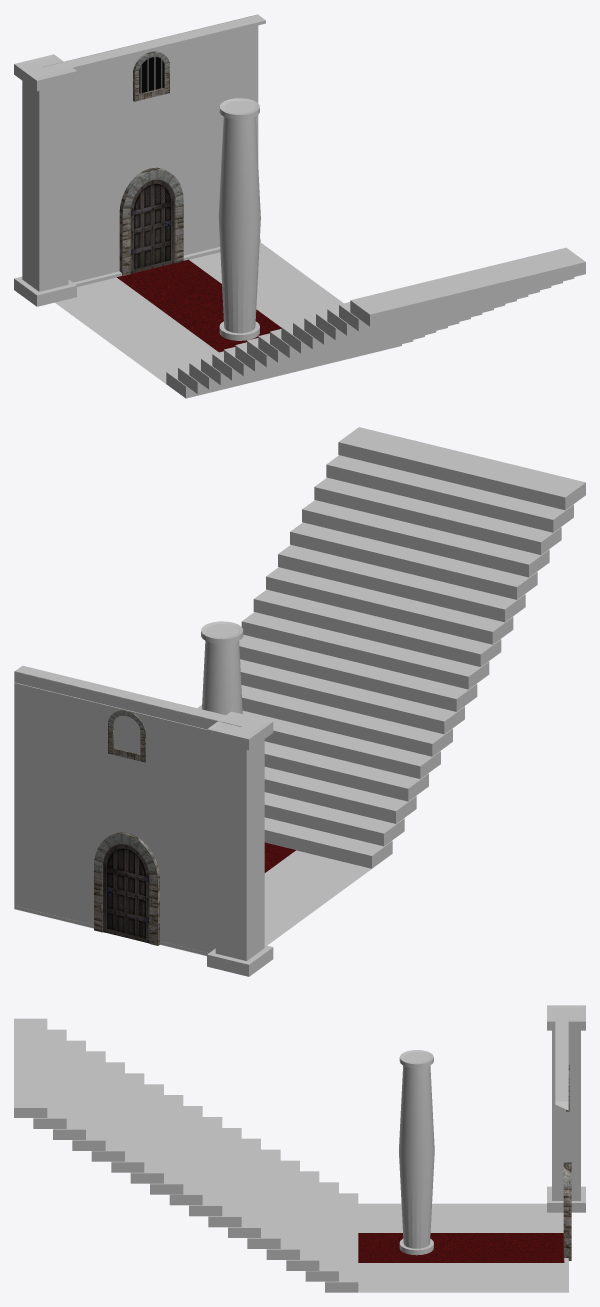
The model's file is Modular_Dungeon.fbx.
3 views of the same model, one above another, from view 1: azimuth 30°, elevation 25°; view 2: azimuth 150°, elevation 25°; view 3: azimuth 270°, elevation 25° (orthographic). The views are drawn at different scales.
Visible parts, largest first — view 1: Wall, Stair, Ground, Pillar_1, Pillar_2, Door_Dungeon, Cloth_Ground1, Window; view 2: Stair, Wall, Pillar_1, Door_Dungeon, Ground, Pillar_2, Window; view 3: Stair, Ground, Pillar_2, Cloth_Ground1, Pillar_1, Wall, Door_Dungeon.
Boxes of the visible parts, x1=… form: Wall: x1=42, y1=14, x2=265, y2=286; Stair: x1=166, y1=247, x2=585, y2=398; Ground: x1=55, y1=242, x2=343, y2=383; Pillar_1: x1=14, y1=54, x2=76, y2=306; Pillar_2: x1=218, y1=98, x2=260, y2=340; Door_Dungeon: x1=119, y1=167, x2=183, y2=276; Cloth_Ground1: x1=117, y1=259, x2=281, y2=352; Window: x1=133, y1=51, x2=169, y2=101; Stair: x1=197, y1=427, x2=585, y2=868; Wall: x1=14, y1=665, x2=249, y2=955; Pillar_1: x1=207, y1=711, x2=273, y2=976; Door_Dungeon: x1=94, y1=832, x2=159, y2=945; Ground: x1=14, y1=850, x2=371, y2=956; Pillar_2: x1=201, y1=621, x2=243, y2=714; Window: x1=108, y1=710, x2=145, y2=762; Stair: x1=14, y1=1018, x2=358, y2=1292; Ground: x1=358, y1=1203, x2=568, y2=1292; Pillar_2: x1=399, y1=1050, x2=434, y2=1255; Cloth_Ground1: x1=358, y1=1233, x2=564, y2=1262; Pillar_1: x1=547, y1=1005, x2=585, y2=1212; Wall: x1=555, y1=1012, x2=568, y2=1289; Door_Dungeon: x1=563, y1=1162, x2=571, y2=1260.
Size of the model in its own units: 48.84 by 45.18 by 122.
